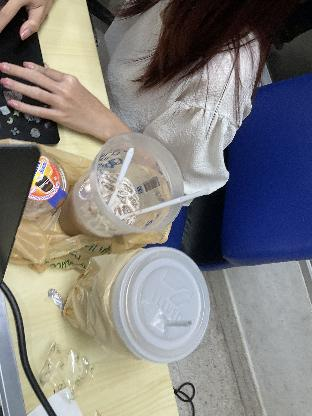Plastic Cup: (66, 139, 180, 245), (112, 252, 210, 354)
